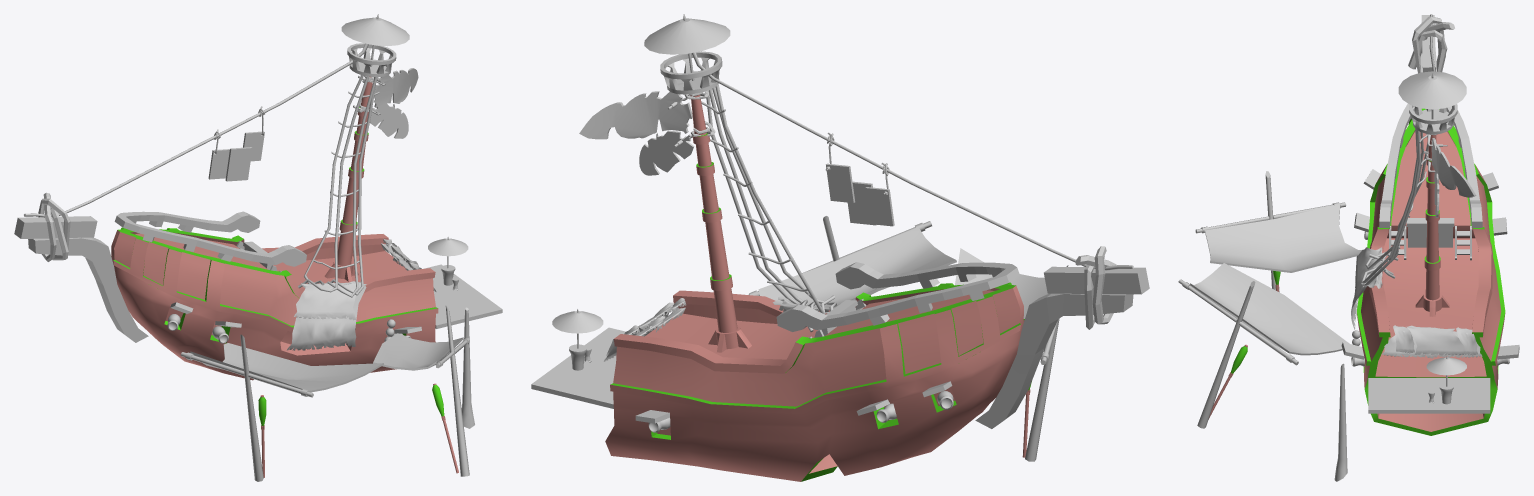
File: Boat_Def_version_physics.fbx
The picture shows the model from 3 angles, left to right: view 1: azimuth 30°, elevation 25°; view 2: azimuth 150°, elevation 25°; view 3: azimuth 270°, elevation 25°; orthographic projection. The views are drawn at different scales.
Visible parts, largest first — view 1: Ship_body_low, MainRailing_low, Sail_low, Pope2_Low, Harbour_low, Blankets7_low, ForeMast_low, Sail2_low, Sign_low, Blankets6_low, MainMast_low, Umbrella_low (+13 smaller); view 2: Ship_body_low, MainRailing_low, Sail2_low, Pope2_Low, ForeMast_low, PalmLeave_low, Harbour_low, Sign_low, Pope_Low, Umbrella_low, MainTop_low, Rope5_low (+10 smaller); view 3: Ship_body_low, Sail_low, Sail2_low, Harbour_low, MainRailing_low, ForeMast_low, Umbrella_low, MainMast2_low, Blanket_low, Knot_low, MainTop_low, PalmLeave_low (+13 smaller).
Boxes of the visible parts, x1,y1,x2,y2 form: Ship_body_low: (111,227,438,380); MainRailing_low: (114,211,306,266); Sail_low: (190,343,383,392); Pope2_Low: (28,237,148,342); Harbour_low: (425,264,502,328); Blankets7_low: (287,281,366,350); ForeMast_low: (324,76,372,281); Sail2_low: (373,333,463,370); Sign_low: (208,106,265,181); Blankets6_low: (294,281,361,320); MainMast_low: (181,334,313,481); Umbrella_low: (341,17,409,46); Ship_body_low: (605,282,1024,481); MainRailing_low: (776,262,1019,331); Sail2_low: (758,227,956,306); Pope2_Low: (975,293,1133,428); ForeMast_low: (690,95,751,352); PalmLeave_low: (579,91,692,139); Harbour_low: (531,327,625,408); Sign_low: (825,132,894,226); Pope_Low: (1044,266,1149,294); Umbrella_low: (644,18,730,54); MainTop_low: (660,51,722,94); Rope5_low: (691,52,1133,270); Ship_body_low: (1356,108,1505,435); Sail_low: (1205,204,1362,272); Sail2_low: (1190,263,1349,355); Harbour_low: (1368,378,1490,413); MainRailing_low: (1379,103,1482,227); ForeMast_low: (1415,135,1449,316); Umbrella_low: (1398,71,1466,109); MainMast2_low: (1178,279,1298,428); Blanket_low: (1406,325,1465,355); Knot_low: (1408,16,1454,73); MainTop_low: (1409,104,1457,134); PalmLeave_low: (1431,138,1476,197).
Size of the model in its own units: 2423 by 1968 by 1576.
